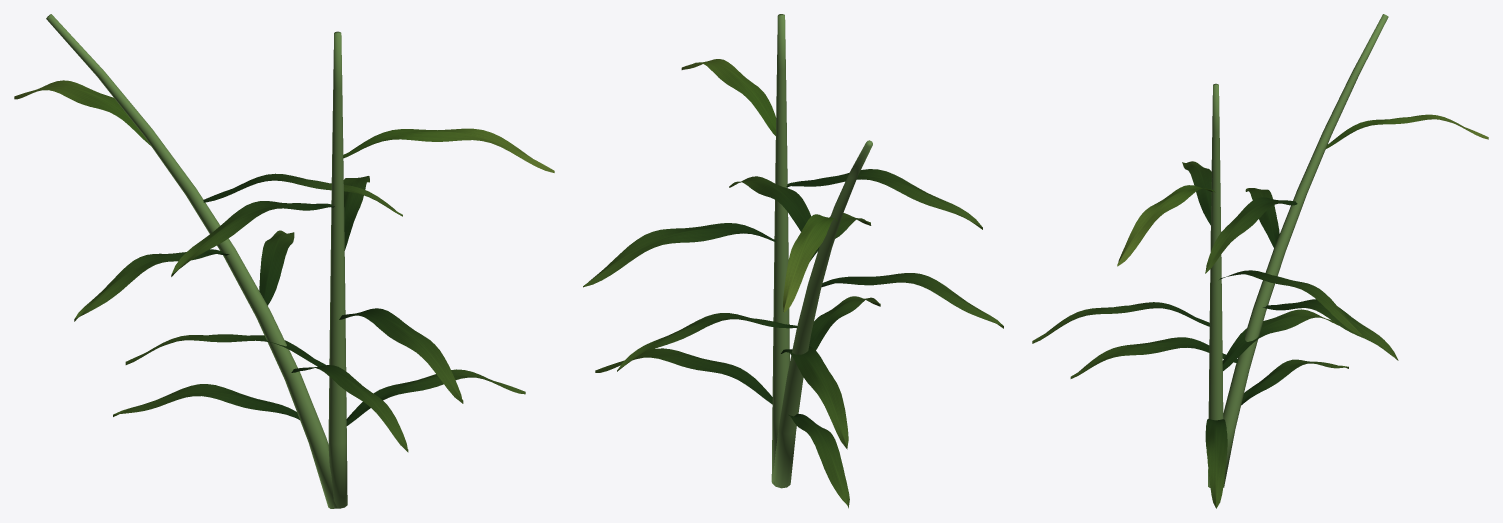
File: lavender-05.glb
3 renders of one model, left to right at view 1: azimuth 30°, elevation 25°; view 2: azimuth 150°, elevation 25°; view 3: azimuth 270°, elevation 25°, orthographic. The views are drawn at different scales.
Parts seen in each view (by area): view 1: lavender_stage_05_leaf_veins.008, lavender_stage_05_stem_fibres.008, lavender_stage_05_young_leaf.008; view 2: lavender_stage_05_leaf_veins.008, lavender_stage_05_stem_fibres.008, lavender_stage_05_young_leaf.008; view 3: lavender_stage_05_leaf_veins.008, lavender_stage_05_stem_fibres.008, lavender_stage_05_young_leaf.008.
Part boxes in pixels (x1,y1,x2,y2): lavender_stage_05_leaf_veins.008: [74, 173, 525, 452]; lavender_stage_05_stem_fibres.008: [46, 14, 347, 508]; lavender_stage_05_young_leaf.008: [14, 80, 554, 172]; lavender_stage_05_leaf_veins.008: [583, 169, 1003, 508]; lavender_stage_05_stem_fibres.008: [771, 14, 872, 488]; lavender_stage_05_young_leaf.008: [681, 59, 837, 312]; lavender_stage_05_leaf_veins.008: [1032, 161, 1398, 508]; lavender_stage_05_stem_fibres.008: [1208, 14, 1388, 487]; lavender_stage_05_young_leaf.008: [1117, 114, 1488, 266].
Bounding box in the file's own units: 0.2023 × 0.212 × 0.2177.
3 materials, 2 textured.
